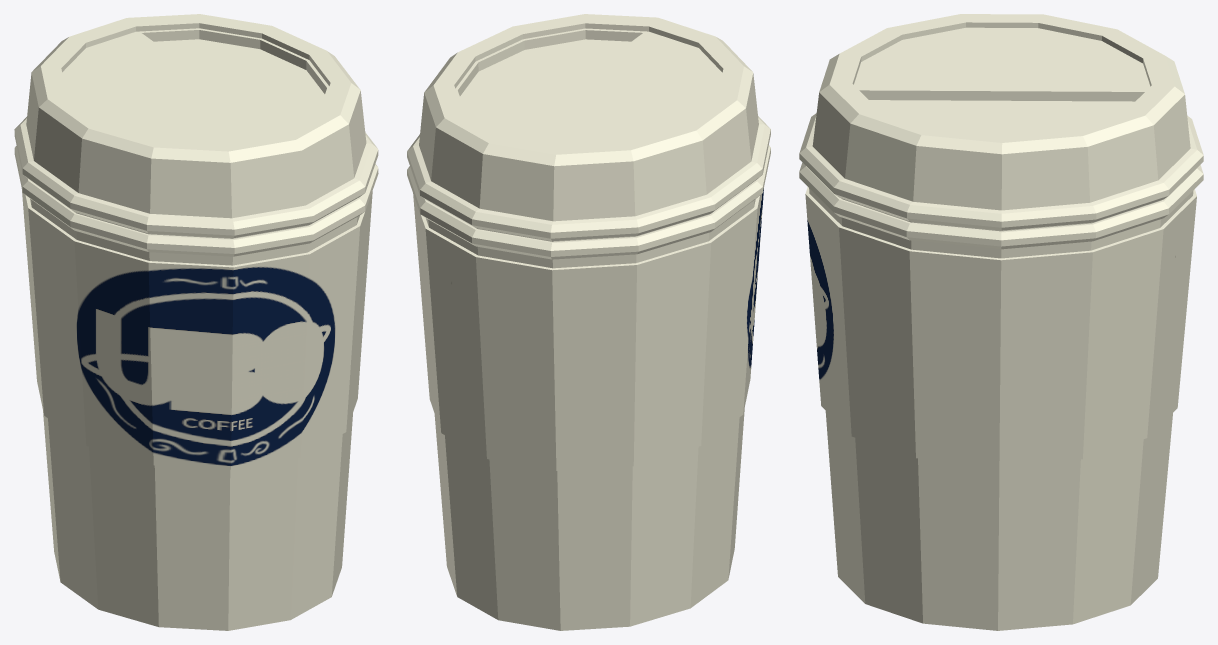
File: CopoStarbucks.FBX
3 views of the same model, side by side, from view 1: azimuth 30°, elevation 25°; view 2: azimuth 150°, elevation 25°; view 3: azimuth 270°, elevation 25° (orthographic). The views are drawn at different scales.
Parts seen in each view (by area): view 1: OBJ_Copo_Starbucks; view 2: OBJ_Copo_Starbucks; view 3: OBJ_Copo_Starbucks.
Boxes of the visible parts, x1,y1,x2,y2 form: OBJ_Copo_Starbucks: (14,14,378,630); OBJ_Copo_Starbucks: (407,14,770,630); OBJ_Copo_Starbucks: (799,14,1203,630).
Size of the model in its own units: 4.78 by 7.31 by 5.42.
